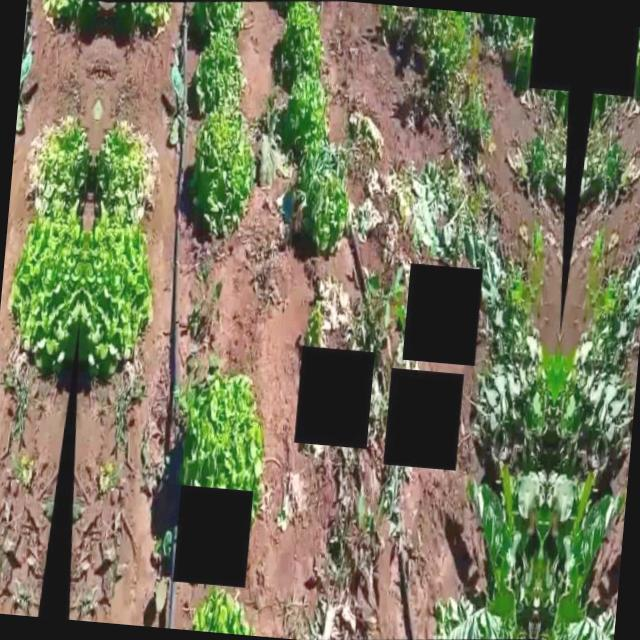healthy: (76, 210, 162, 374), (2, 204, 88, 368), (175, 369, 274, 503), (187, 94, 259, 240), (288, 137, 352, 256), (25, 110, 97, 214), (88, 116, 160, 219), (192, 18, 250, 119), (275, 70, 327, 159), (281, 0, 328, 83), (188, 584, 254, 635), (190, 0, 252, 40), (113, 0, 170, 33), (41, 0, 98, 27)
